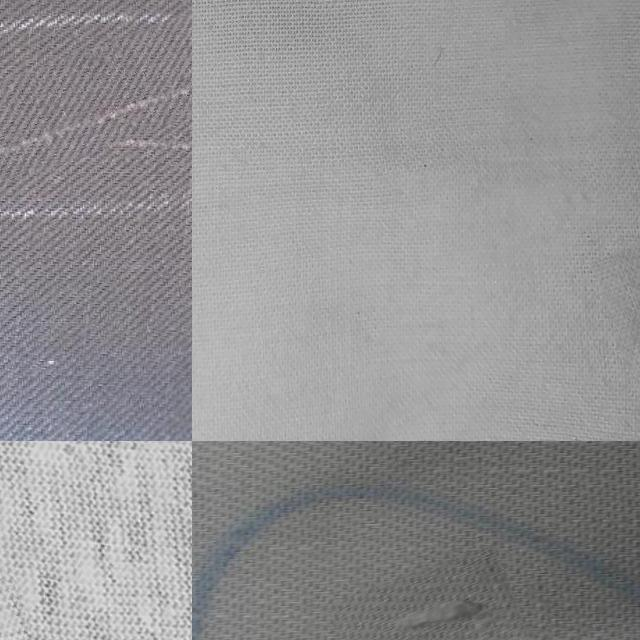Hole: (602, 224, 640, 423)
Thread_other: (0, 31, 192, 213), (349, 552, 575, 640)
